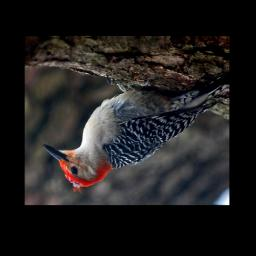Woodpecker: (43, 73, 229, 193)
